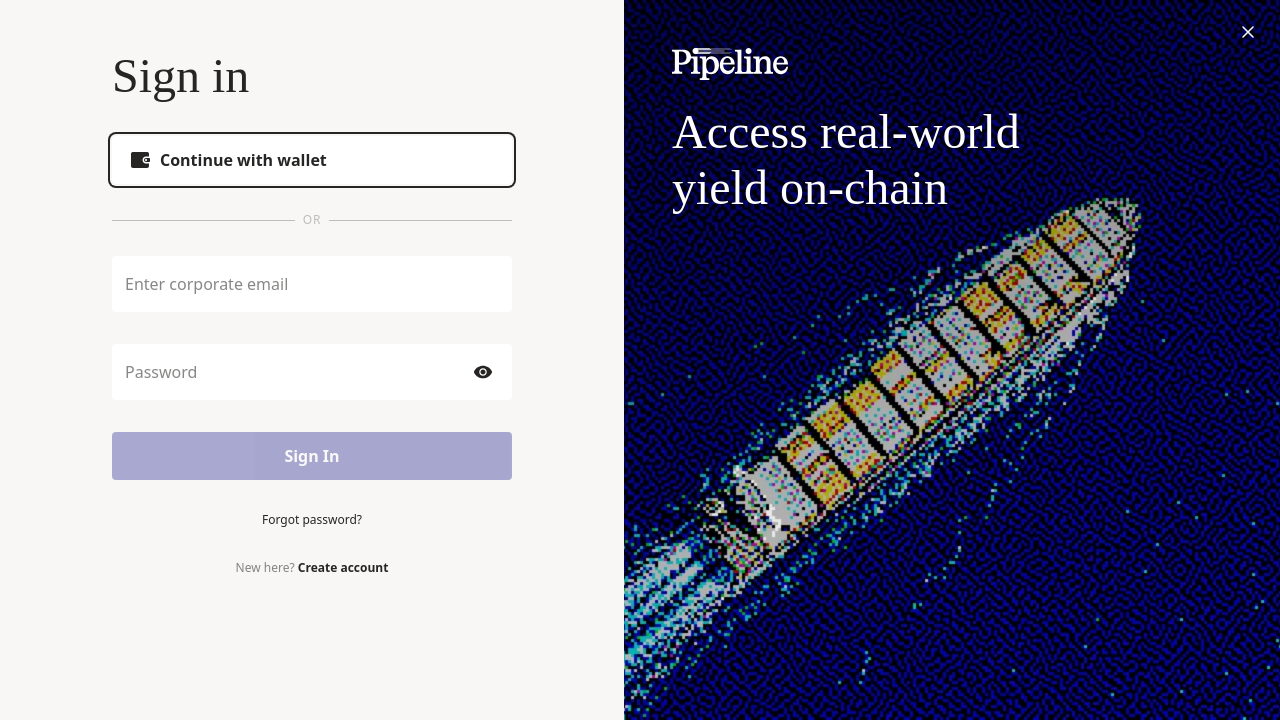
SignInModal (#1248) › submit is enabled once both fields are non-empty and email is well-formed
In the field with placeholder "Enter corporate email": (312, 284) [125, 273, 499, 295], type "lp@example.com"
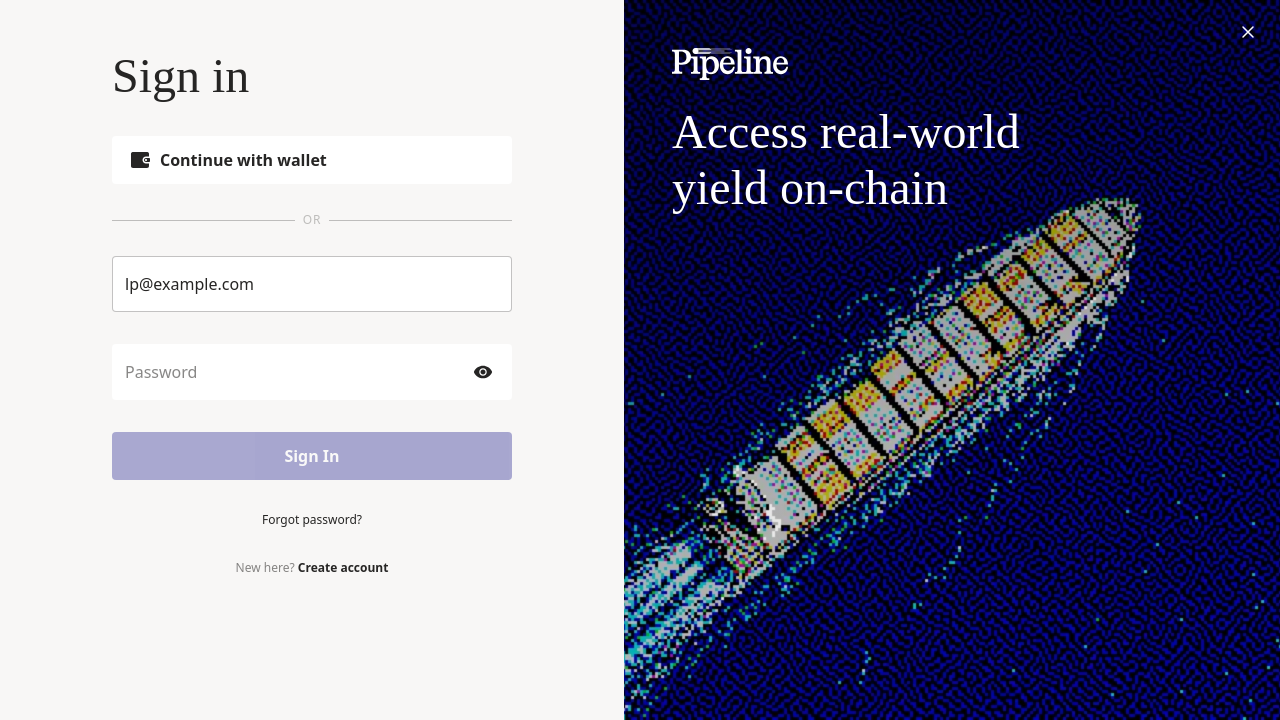
In the password field with placeholder "Password": (294, 372) [125, 361, 463, 383], type "hunter2"
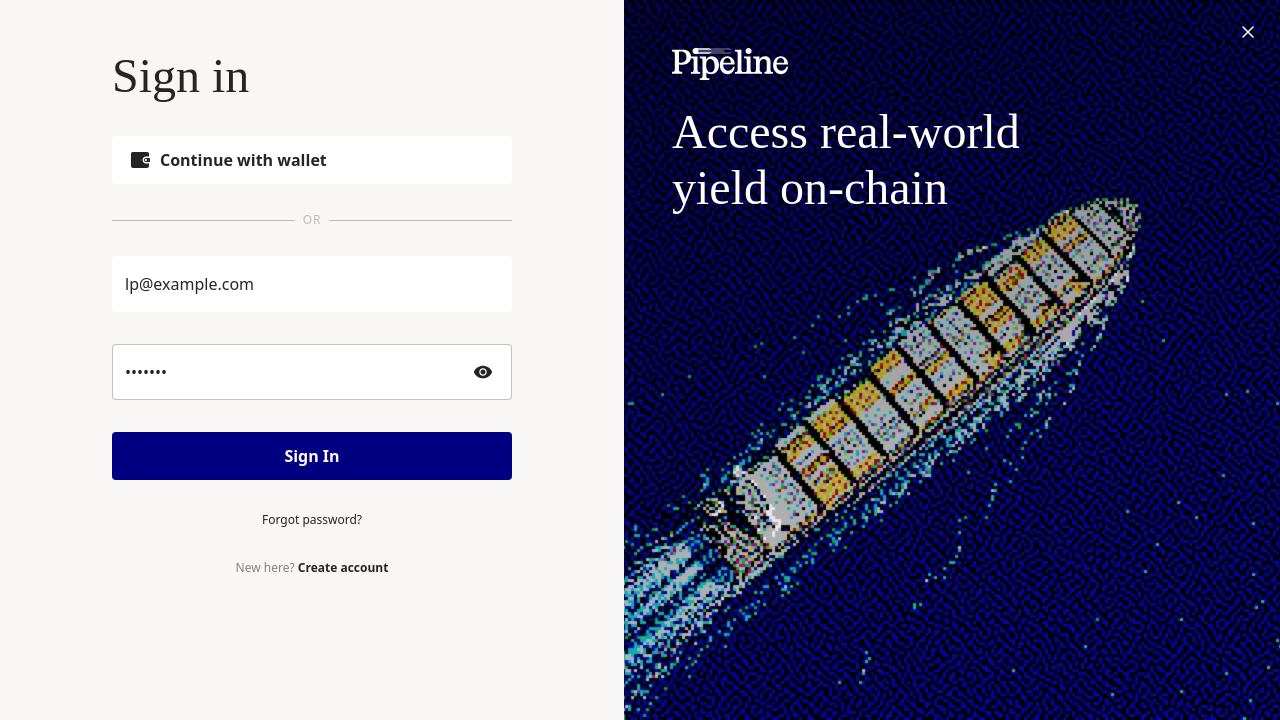
Now the button "Sign In" is enabled, box [112, 432, 512, 480]
